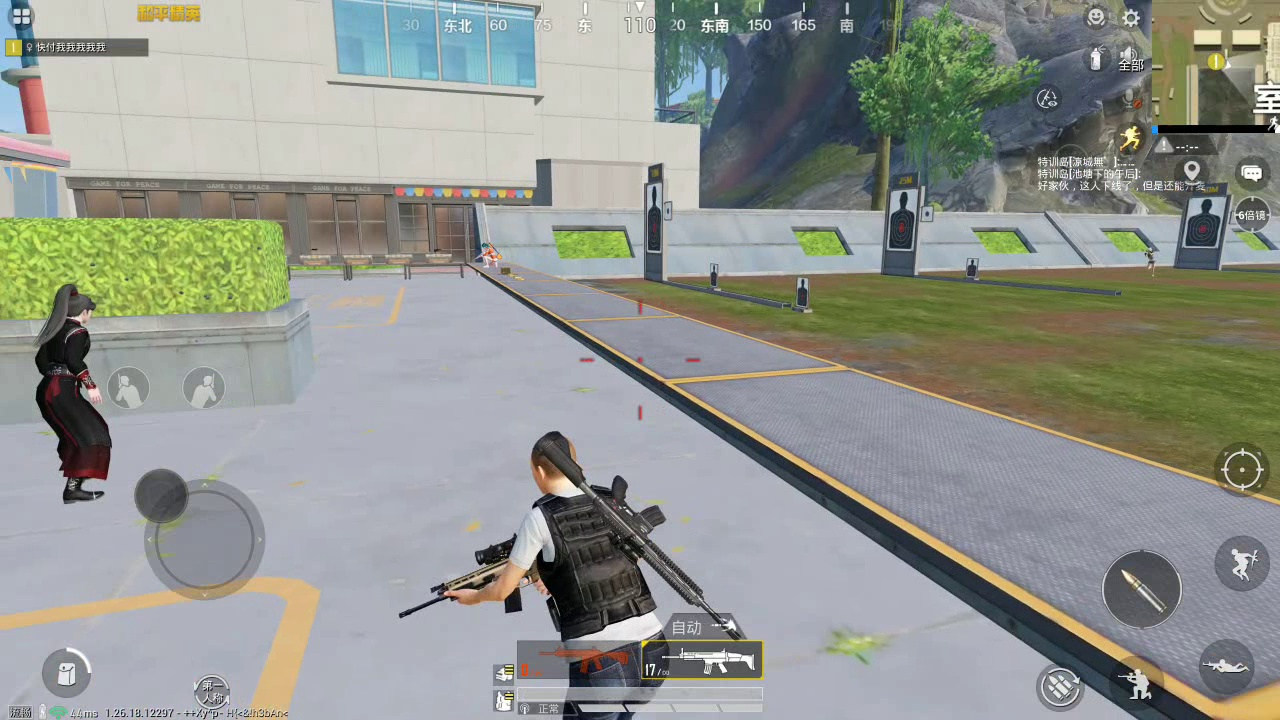enemy: (40, 281, 108, 504), (475, 242, 500, 269)
